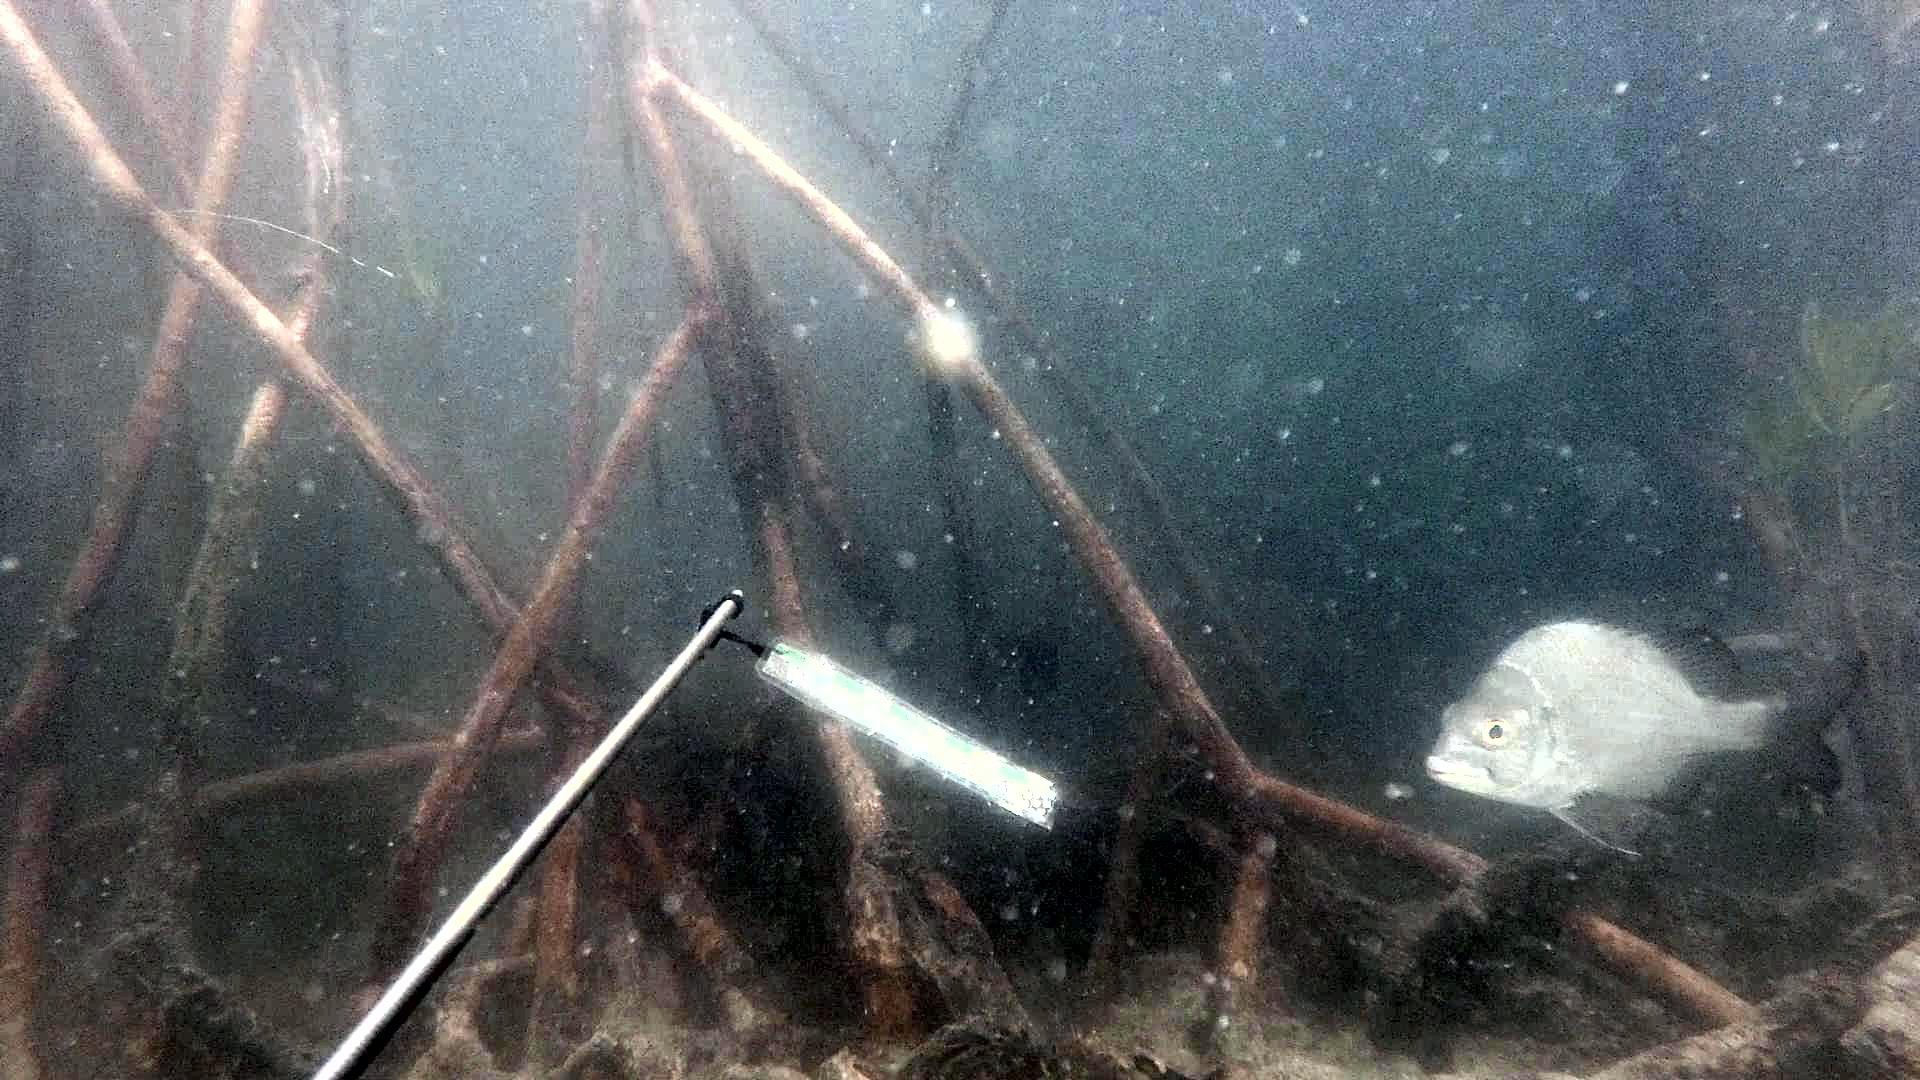acanthopagrus palmaris: (1418, 593, 1883, 868)
